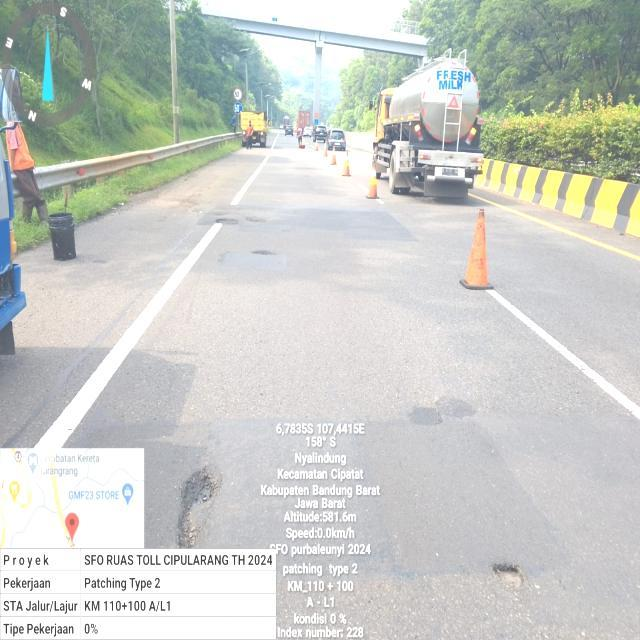Buraco: (172, 461, 228, 550), (487, 561, 530, 593), (249, 248, 279, 257), (213, 217, 240, 226), (244, 214, 268, 224)
